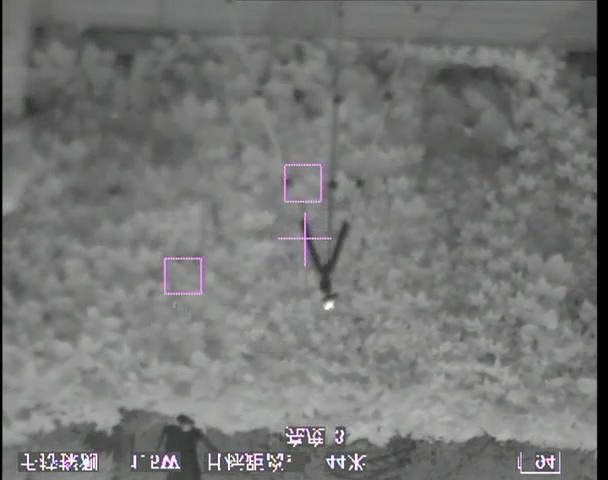my: (323, 299, 335, 310)
